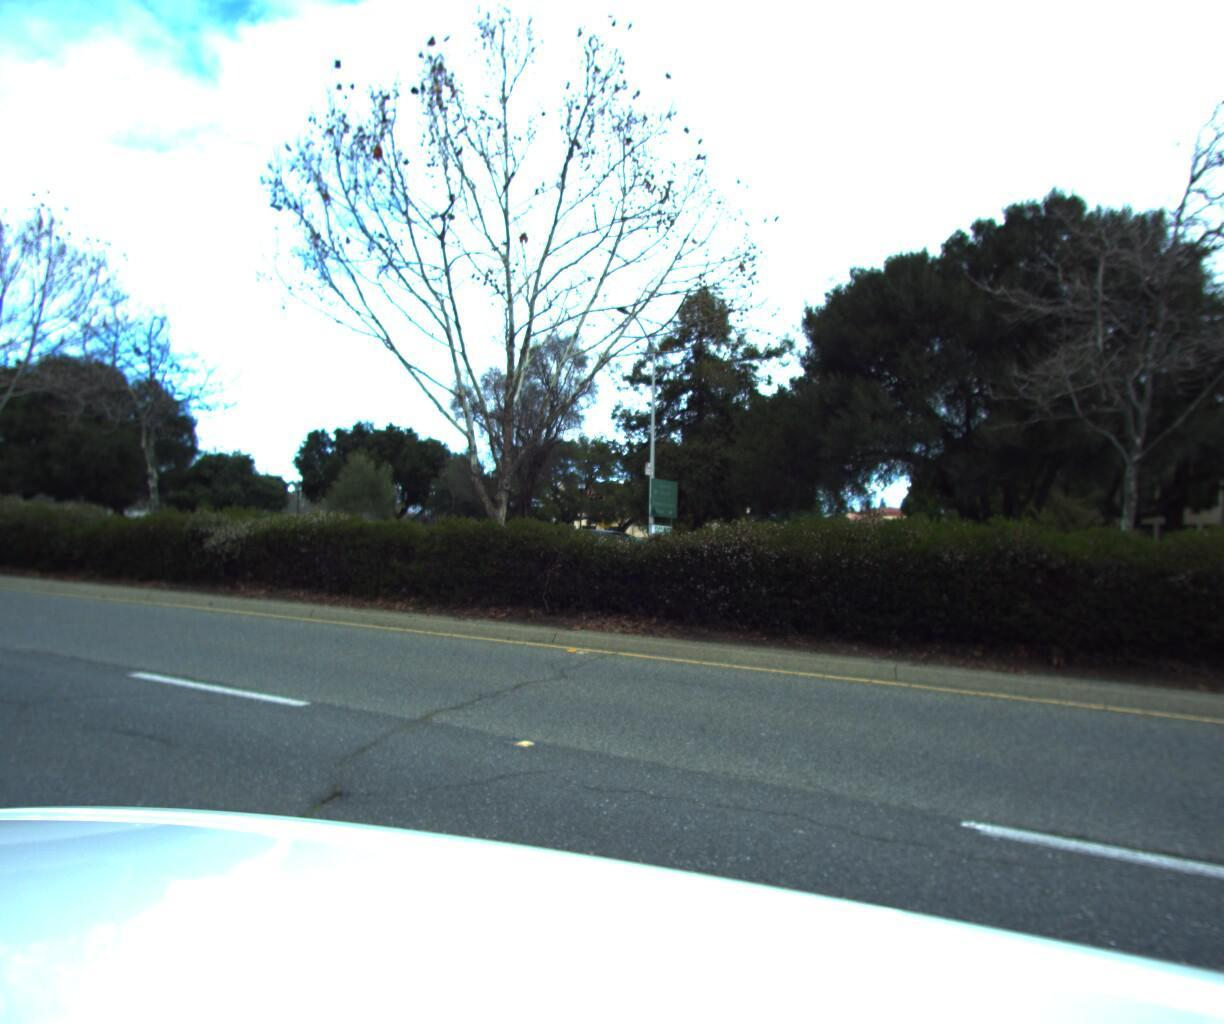car: (528, 521, 656, 578)
